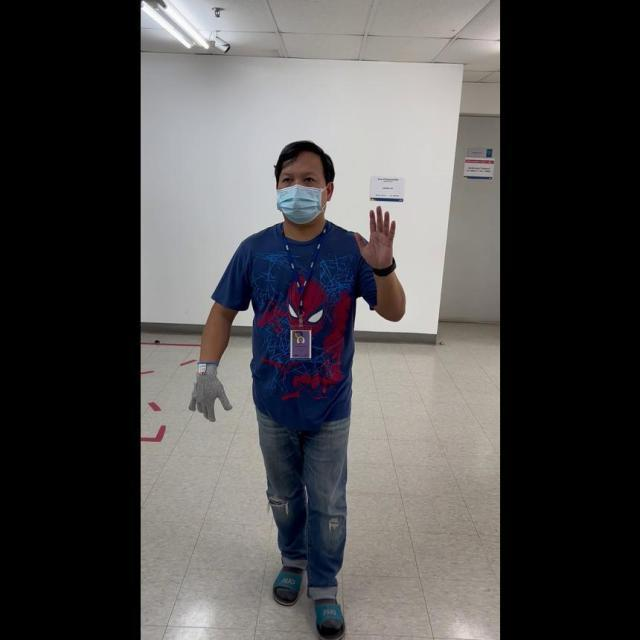bare_hand: (355, 202, 397, 270)
gloved_hand: (186, 359, 233, 417)
